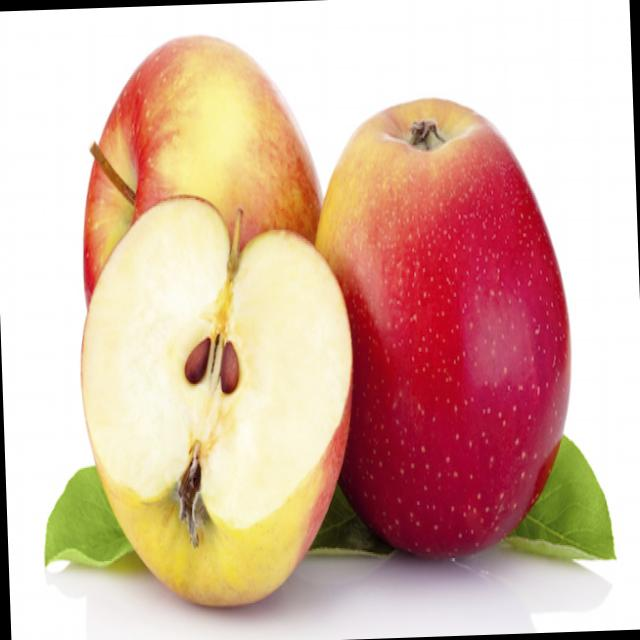apple: (303, 79, 578, 588), (66, 29, 335, 476)
